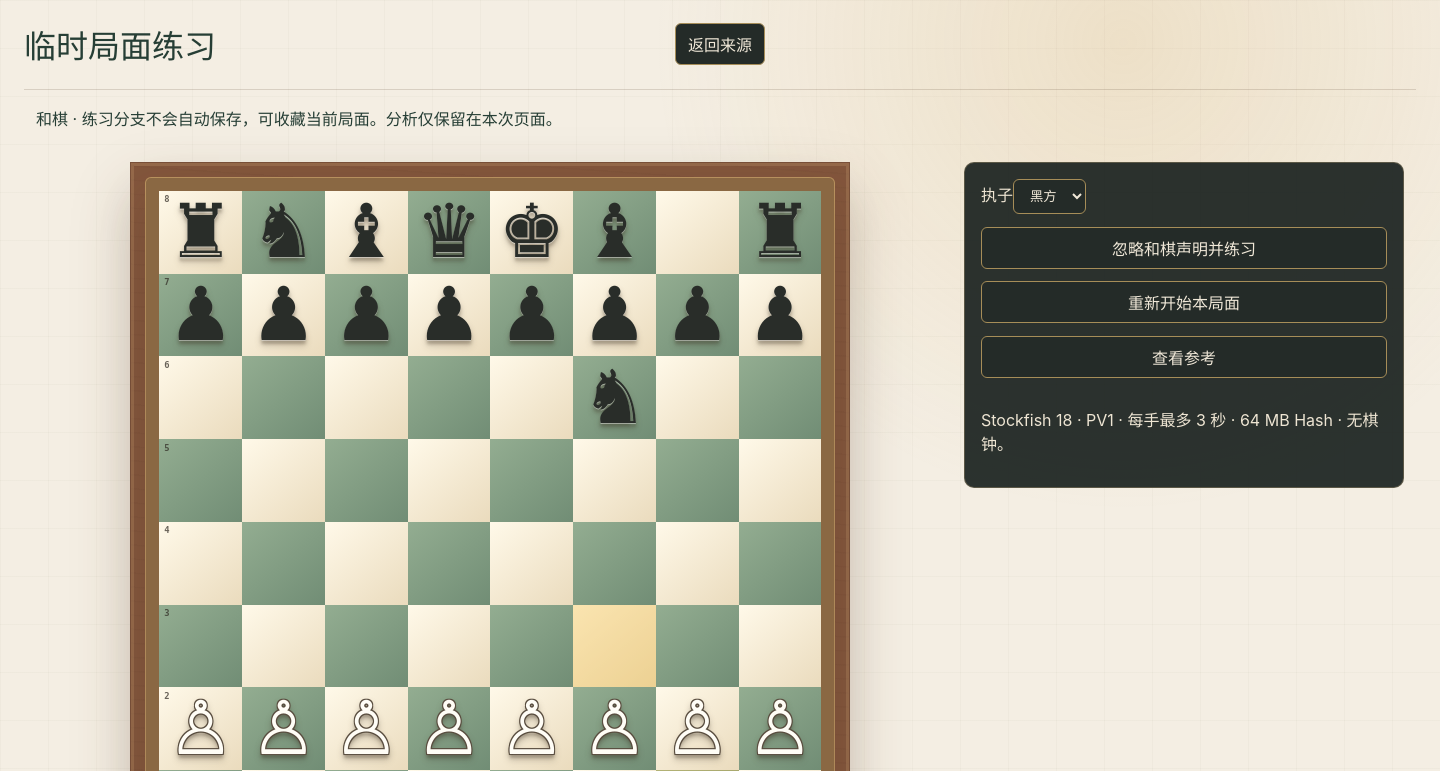
Scenario: 临时练习与原局隔离 › 忽略和棋声明不执行声明预定着法，不自动搜索
This screenshot has width=1440, height=771.
Expected: the button "开始练习" is not shown
Click the button "忽略和棋声明并练习": (1184, 248) [981,227,1387,269]
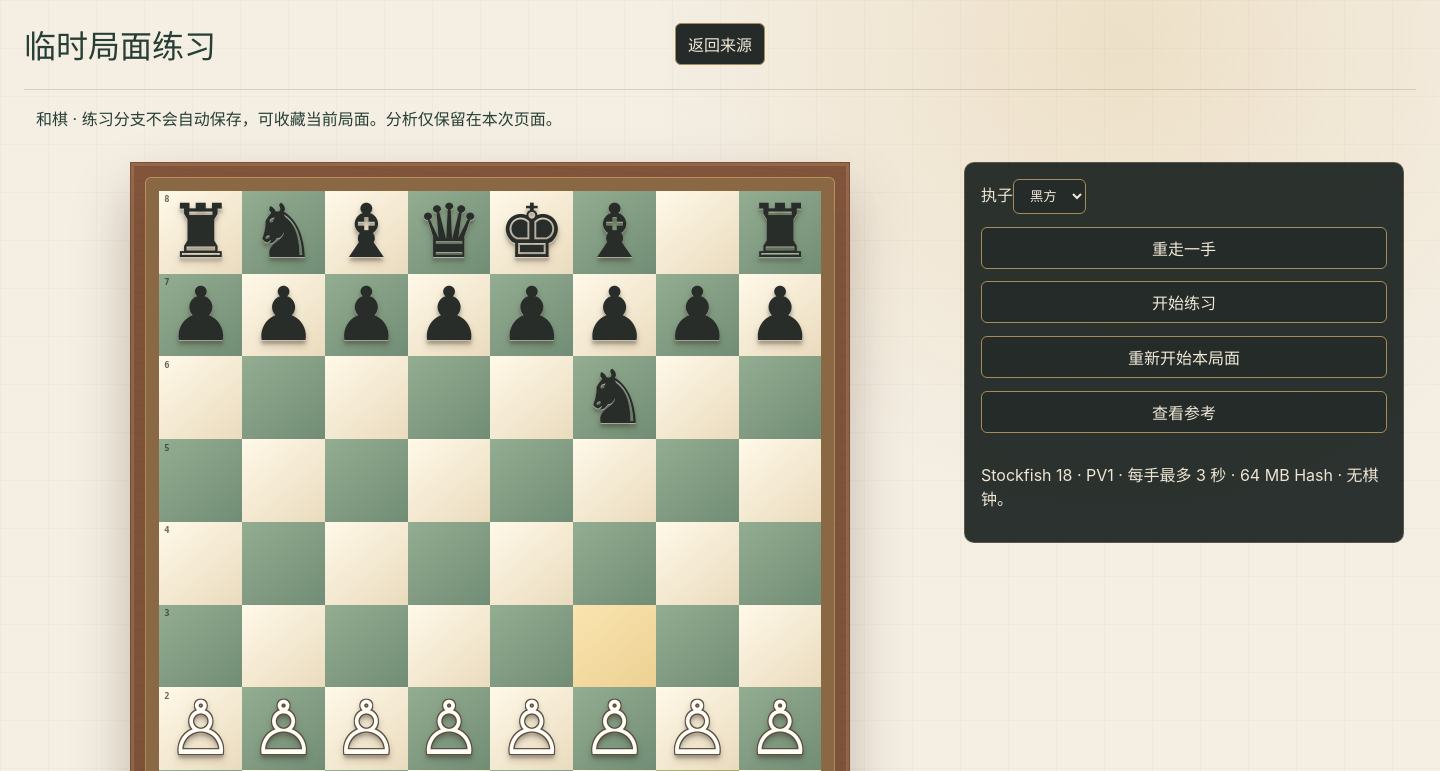
Expected: the button "开始练习" is enabled, [981,282,1387,324]
